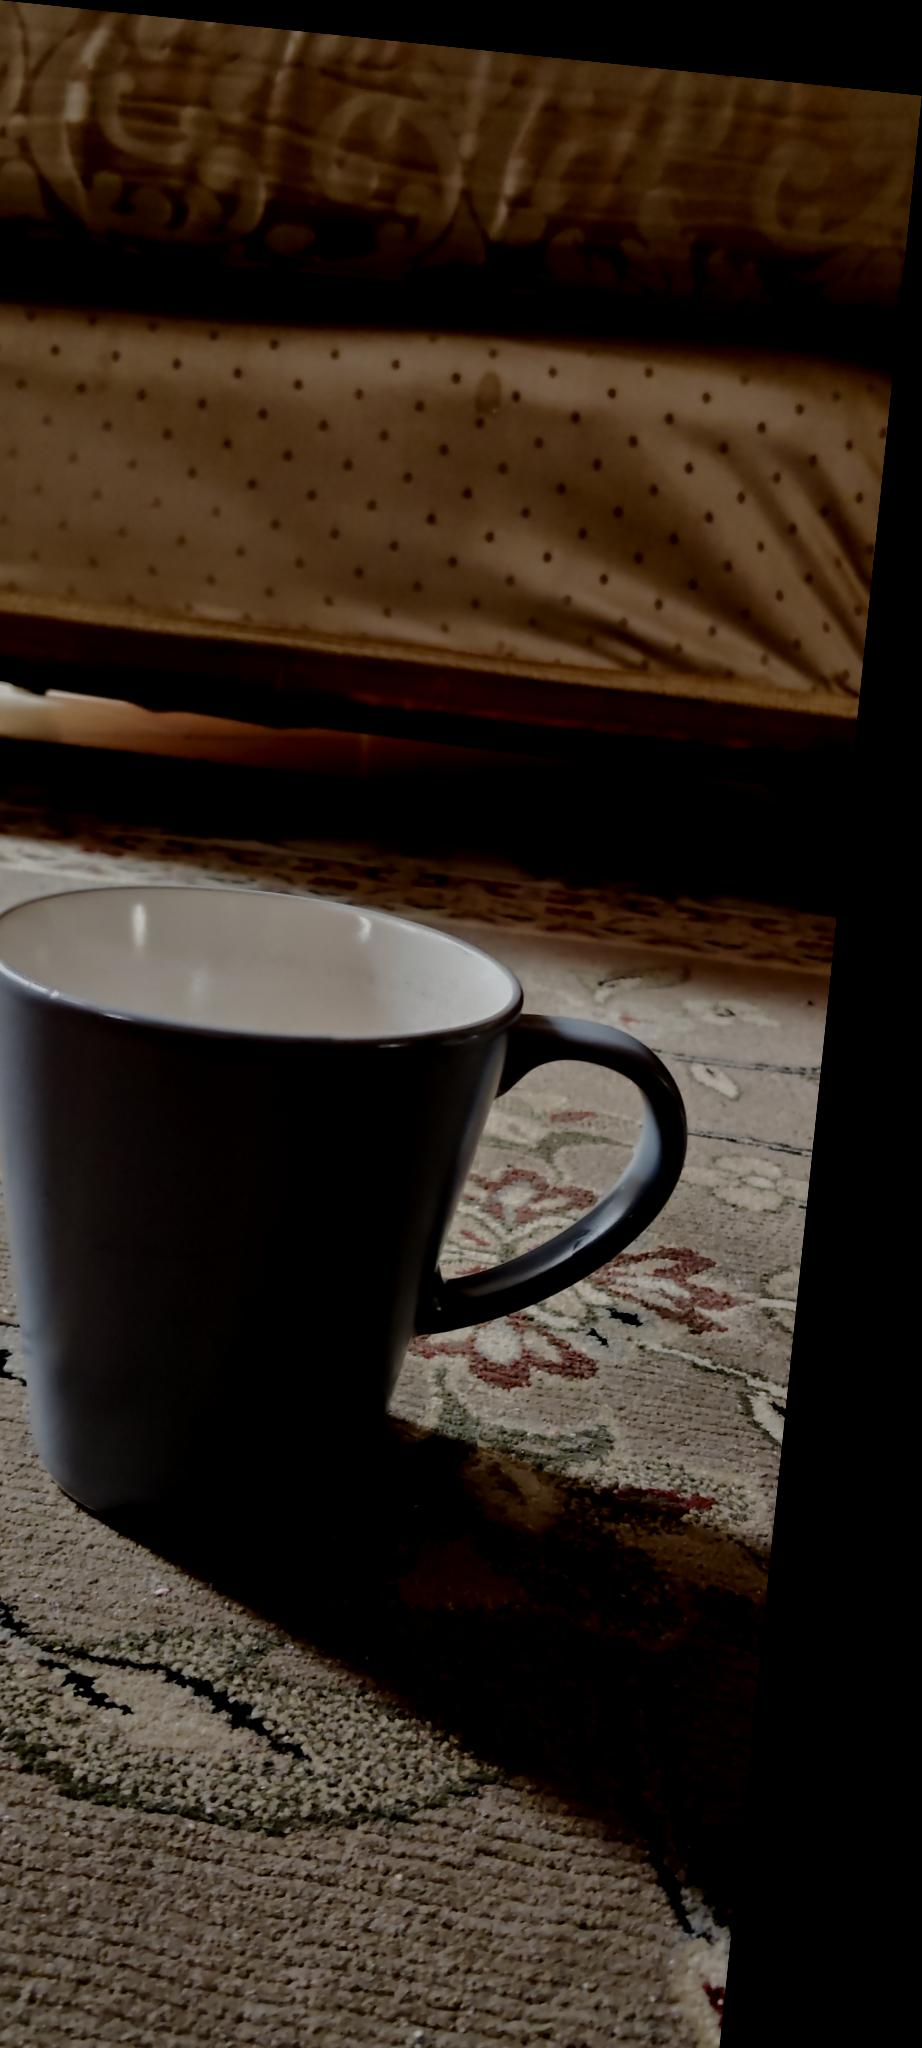Mug: (0, 857, 705, 1574)
